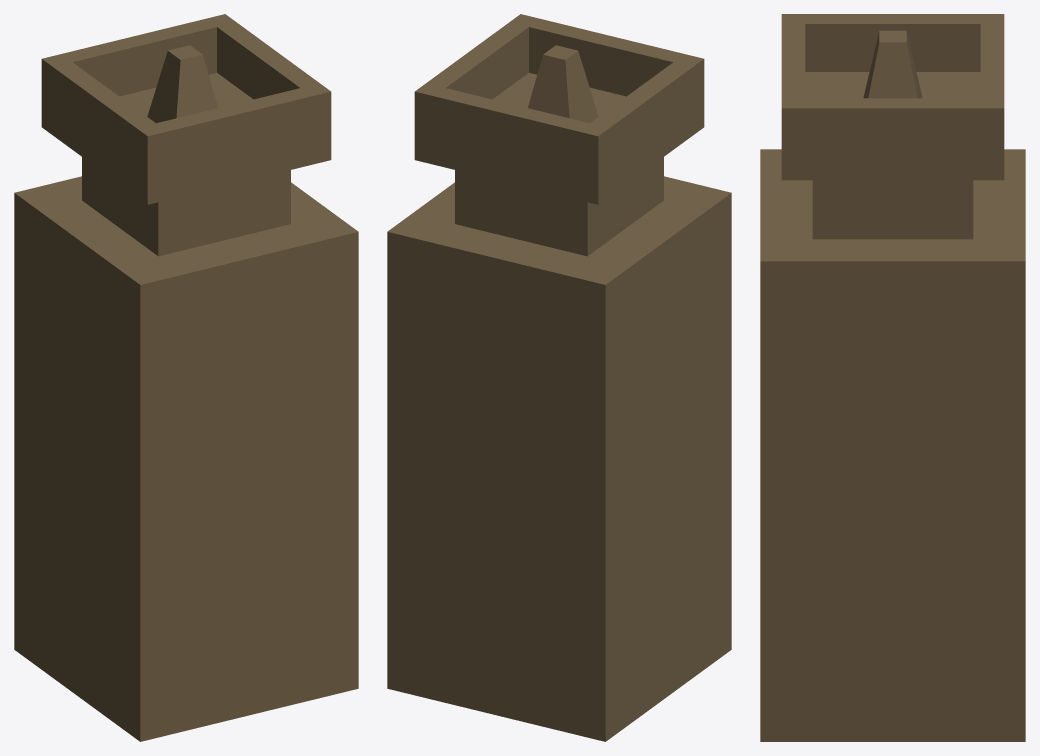
Rendered from king_black.fbx.
The picture shows the model from 3 angles, left to right: view 1: azimuth 30°, elevation 25°; view 2: azimuth 150°, elevation 25°; view 3: azimuth 270°, elevation 25°; orthographic projection. The views are drawn at different scales.
Parts seen in each view (by area): view 1: Cube.007; view 2: Cube.007; view 3: Cube.007.
Boxes of the visible parts, x1,y1,x2,y2 form: Cube.007: (14,14,358,741); Cube.007: (387,14,731,741); Cube.007: (760,14,1025,741).
Size of the model in its own units: 2.8 by 7.55 by 2.8.
